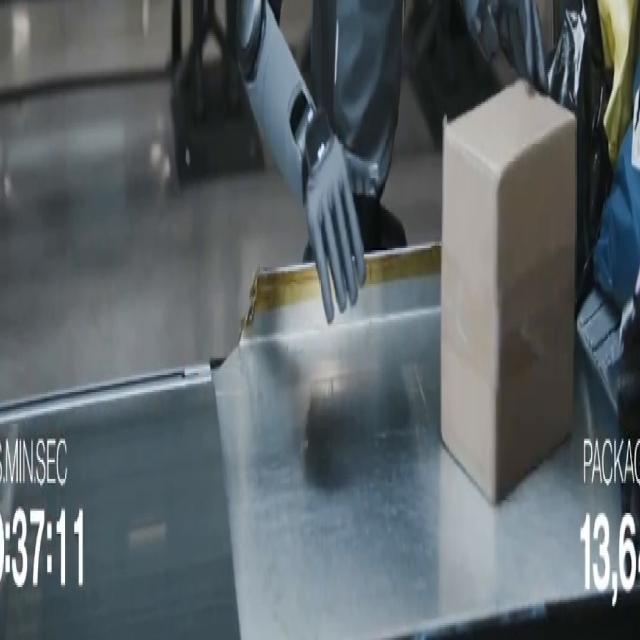package: (441, 81, 576, 504), (548, 0, 612, 309), (594, 62, 639, 311)
